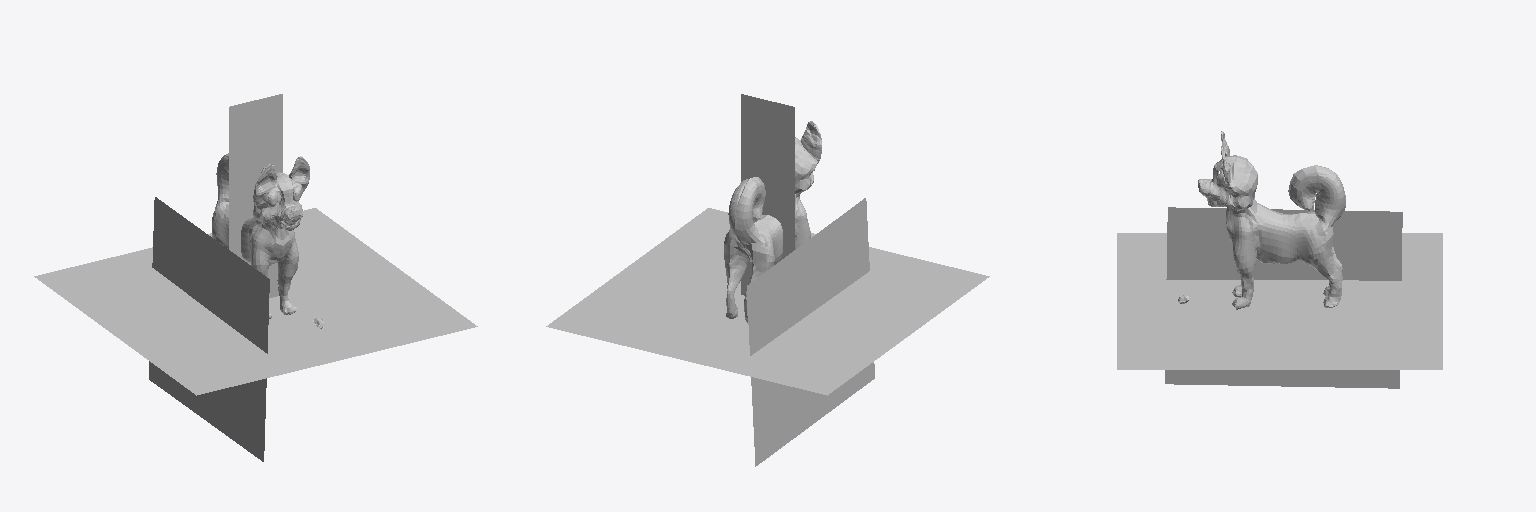
File: cookie_small1.obj
3 renders of one model, left to right at view 1: azimuth 30°, elevation 25°; view 2: azimuth 150°, elevation 25°; view 3: azimuth 270°, elevation 25°, orthographic.
Parts seen in each view (by area): view 1: Plane.001, Plane, cookie_Group50196, Plane.003, Plane.002; view 2: Plane.001, Plane, cookie_Group50196, Plane.003, Plane.002; view 3: Plane.001, Plane, cookie_Group50196, Plane.002.
Part boxes in pixels (left/top/right/bottom): Plane.001: left=34, top=208, right=477, bottom=395; Plane: left=149, top=197, right=269, bottom=461; cookie_Group50196: left=212, top=153, right=309, bottom=318; Plane.003: left=229, top=94, right=282, bottom=297; Plane.002: left=268, top=296, right=330, bottom=343; Plane.001: left=546, top=208, right=989, bottom=395; Plane: left=747, top=198, right=874, bottom=466; cookie_Group50196: left=724, top=121, right=821, bottom=322; Plane.003: left=741, top=94, right=794, bottom=295; Plane.002: left=702, top=295, right=748, bottom=334; Plane.001: left=1117, top=233, right=1442, bottom=369; Plane: left=1165, top=207, right=1402, bottom=388; cookie_Group50196: left=1198, top=131, right=1345, bottom=309; Plane.002: left=1182, top=288, right=1358, bottom=314.
Size of the model in its own units: 10.51 by 11.1 by 10.51.